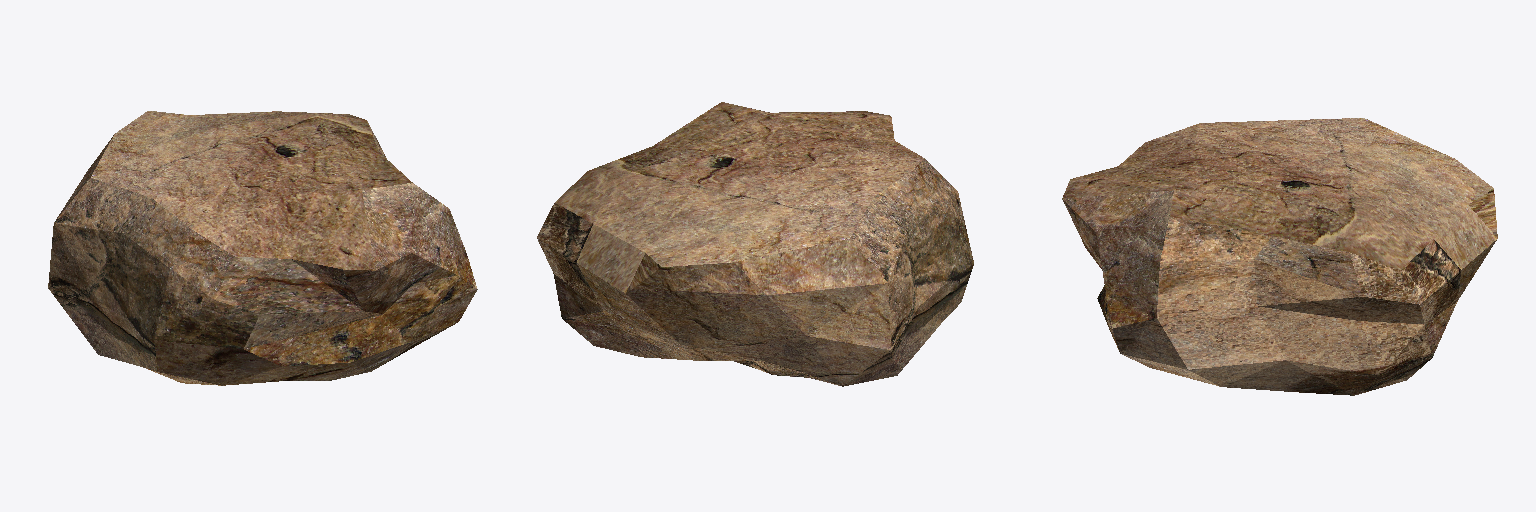
3 views of the same model, side by side, from view 1: azimuth 30°, elevation 25°; view 2: azimuth 150°, elevation 25°; view 3: azimuth 270°, elevation 25° (orthographic).
Visible parts, largest first — view 1: Cube.001; view 2: Cube.001; view 3: Cube.001.
Boxes of the visible parts, x1,y1,x2,y2 form: Cube.001: [48, 111, 477, 385]; Cube.001: [537, 102, 973, 386]; Cube.001: [1062, 118, 1497, 395].
Bounding box in the file's own units: 3.18 × 1.68 × 3.63.
1 materials, 1 textured.